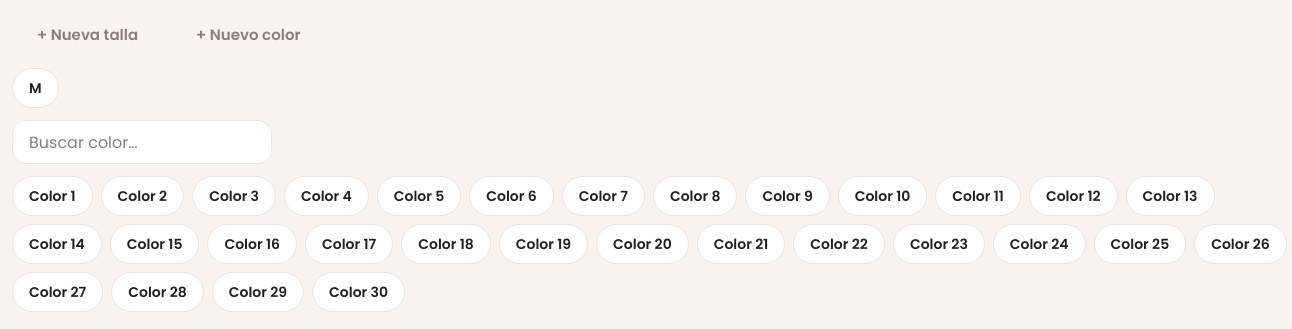
SizeColorPicker › muestra un aviso cuando la búsqueda no encuentra nada
Step 1. Type "zzz-no-existe" into the field labelled "Buscar color" → [142, 142], box [12,120,272,164]
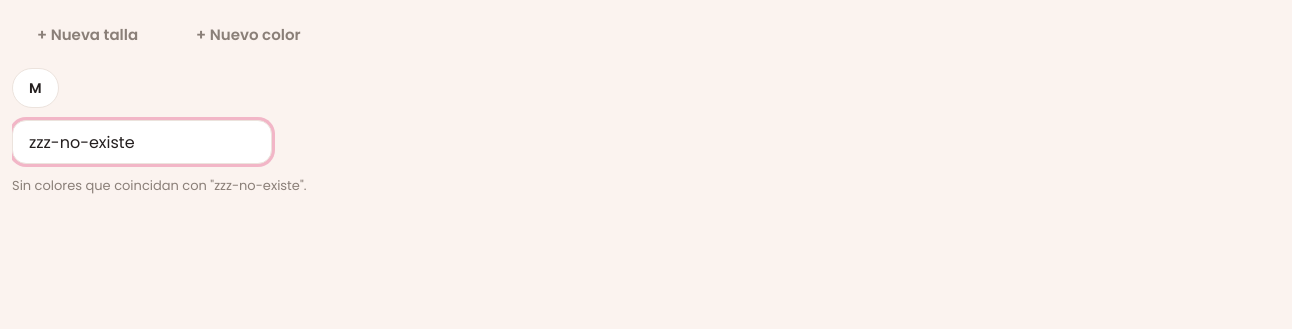
Check: the text "Sin colores que coincidan con \"zzz-no-existe\"." is shown, box [12,176,306,196]
